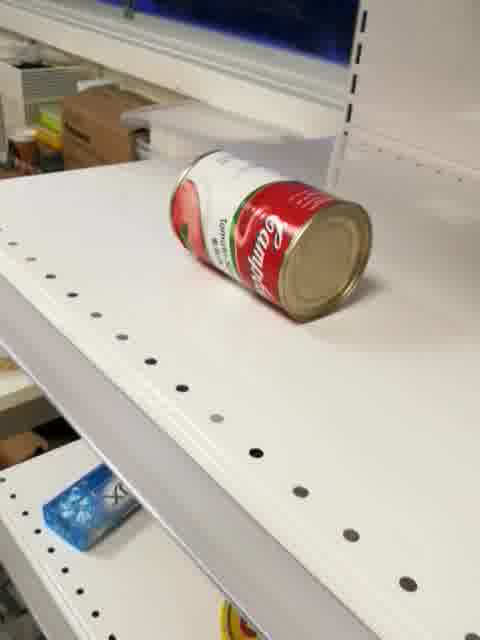tomatosoup: (168, 149, 375, 326)
